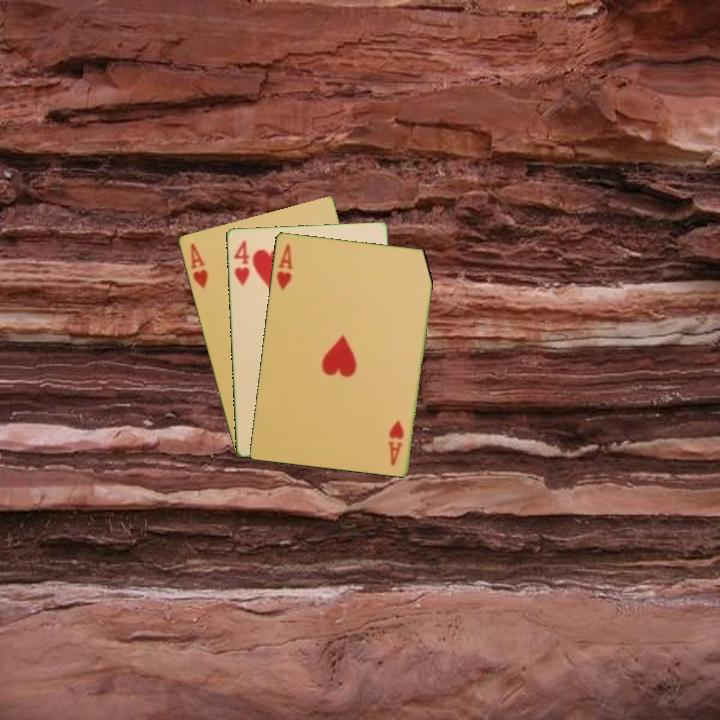4h: (230, 236, 252, 289)
Ah: (186, 239, 211, 291), (273, 240, 295, 293), (386, 416, 406, 468)
